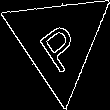P_NW: (31, 10, 86, 72)
